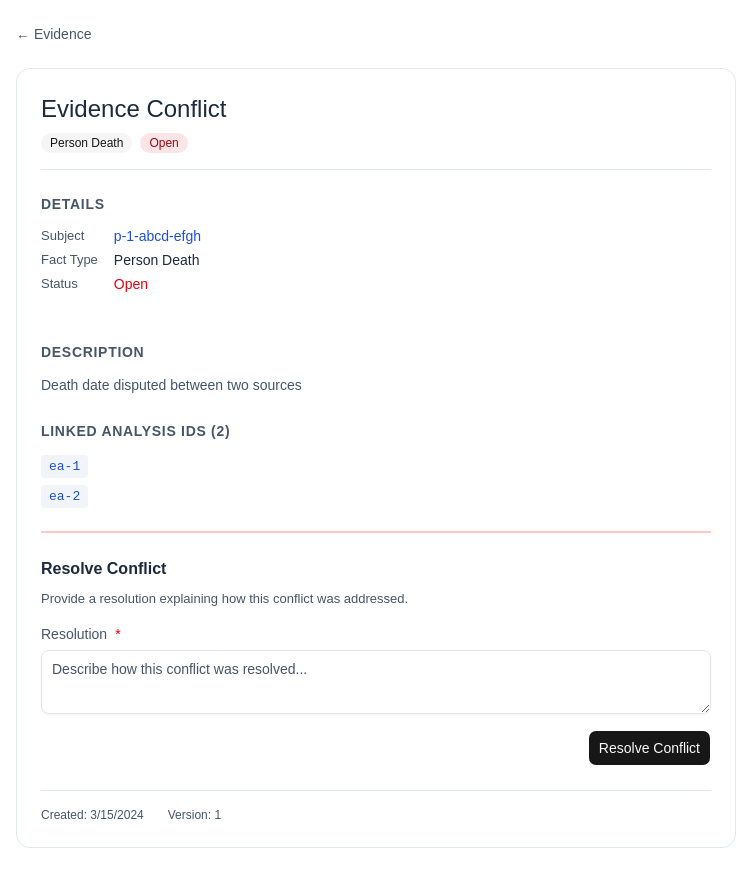
Test: Conflict Detail Page - save conflict (#939) › keeps another writer's changes to the fields the user did not edit
Type "The newspaper is wrong." into the text box named "Resolution text" at (376, 682), box [41,650,711,714]
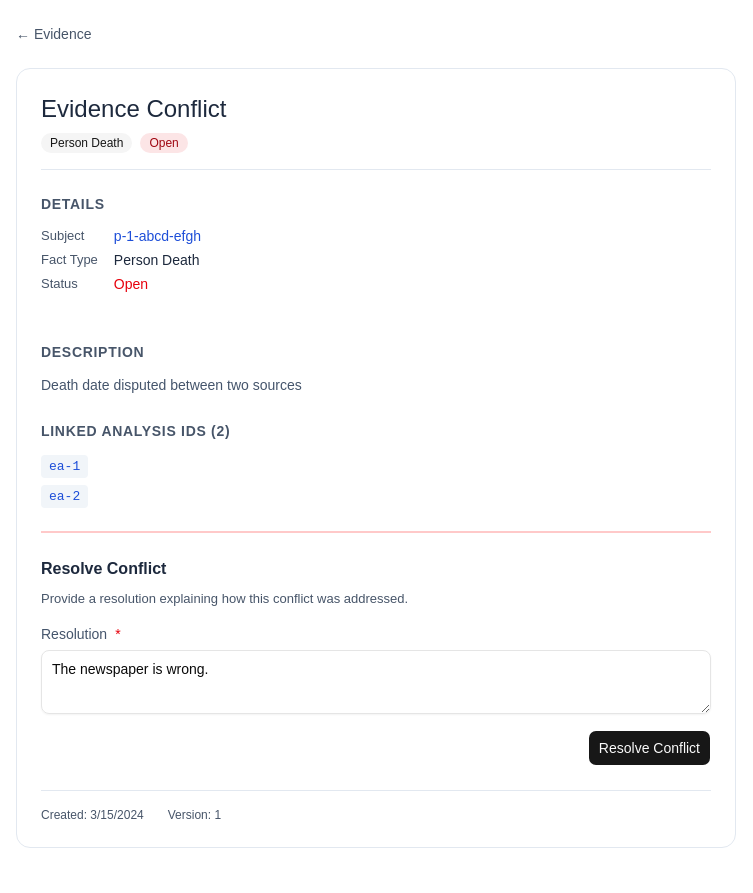
Click the button "Resolve Conflict" at (649, 748), box [588,730,711,766]
(page scrolled)
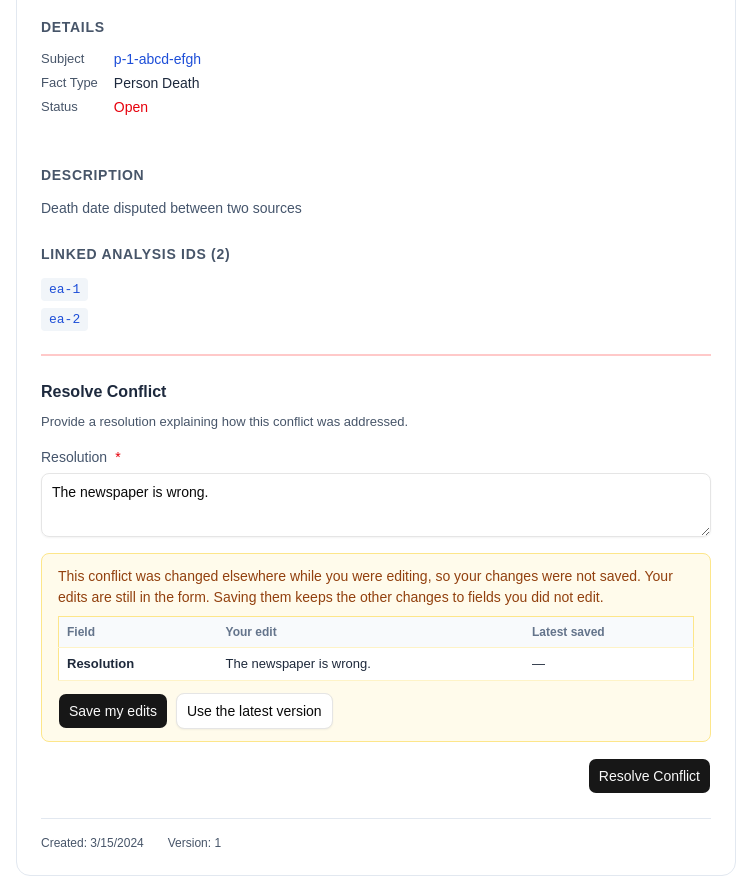
Click the button "Save my edits" at (113, 711), box [58,693,168,729]
(page scrolled)
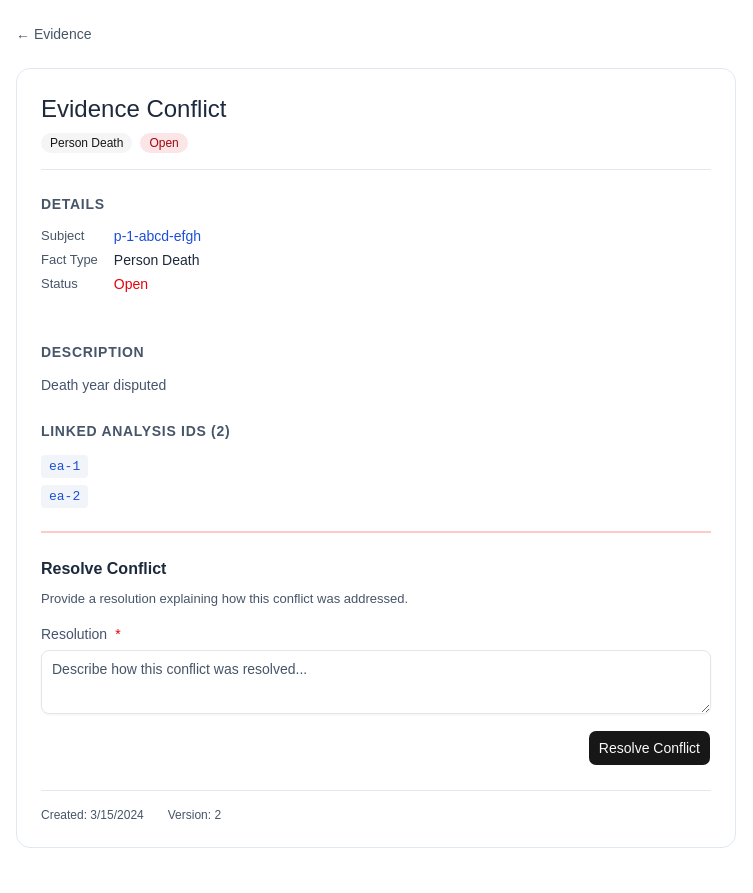
Expected: the text "Death year disputed" is shown, [41,377,166,393]
